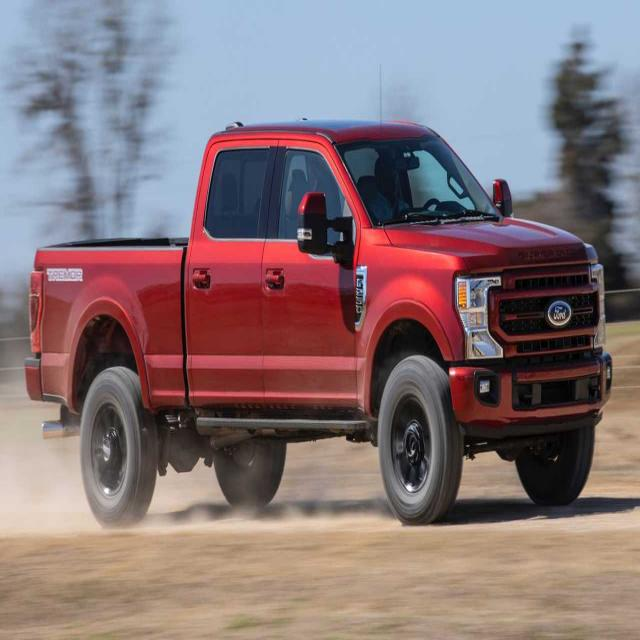truck: (15, 51, 640, 604)
